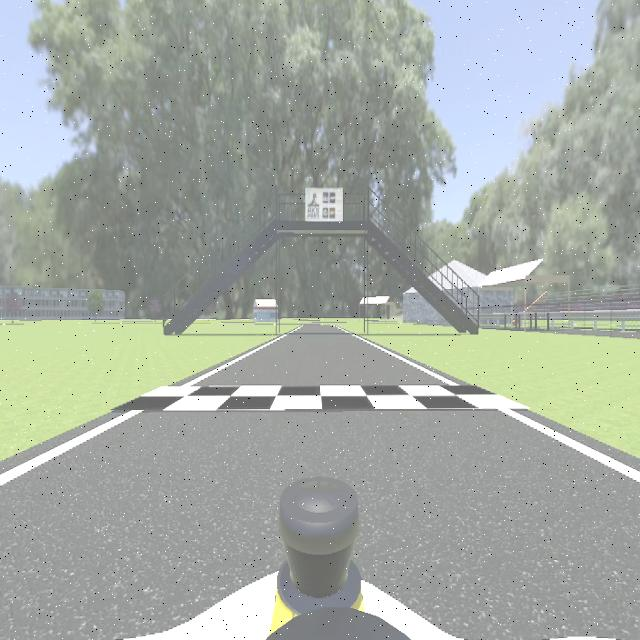finish: (130, 385, 523, 412)
road: (0, 412, 640, 640), (207, 326, 432, 385)
solid_line: (0, 412, 138, 488), (504, 411, 640, 484), (351, 334, 452, 385), (186, 336, 283, 386)
